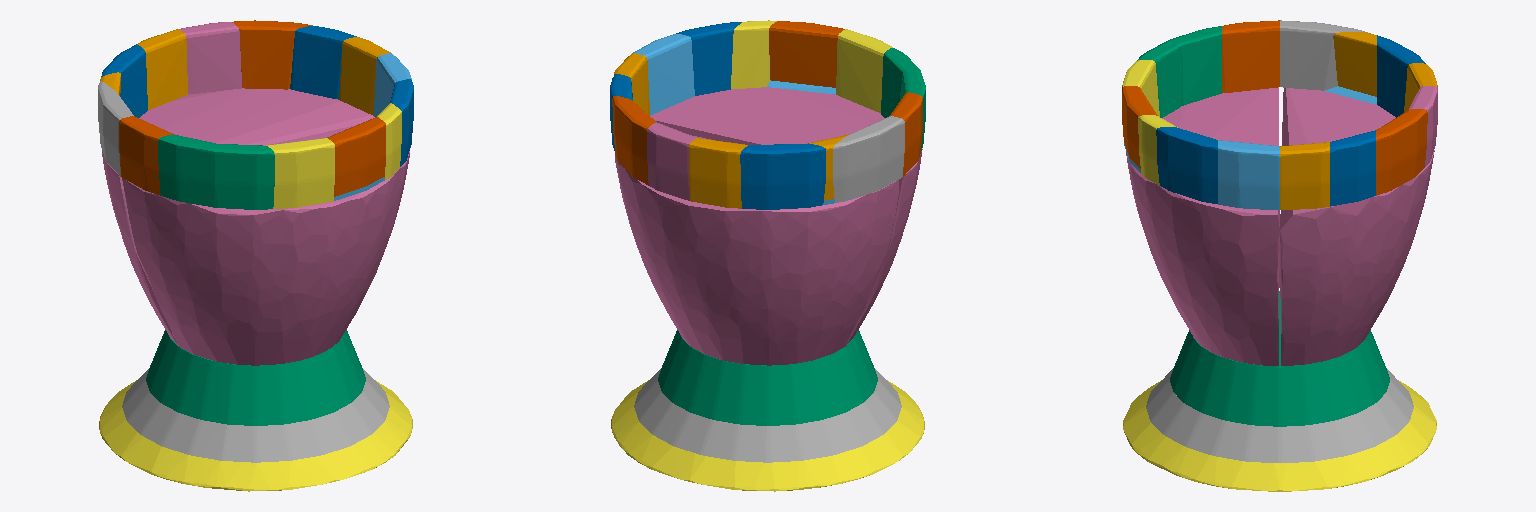
robot.urdf — root:
<robot name="root">
  <link name="link_convex_piece_018.obj">
    <inertial>
      <origin xyz="0 0 0" rpy="0 0 0"/>
    </inertial>
    <visual>
      <origin xyz="0 0 0" rpy="0 0 0"/>
      <geometry>
        <mesh filename="meshes/convex_piece_018.obj" scale="1.0 1.0 1.0"/>
      </geometry>
    </visual>
    <collision>
      <origin xyz="0 0 0" rpy="0 0 0"/>
      <geometry>
        <mesh filename="meshes/convex_piece_018.obj" scale="1.0 1.0 1.0"/>
      </geometry>
    </collision>
  </link>
  <link name="link_convex_piece_021.obj">
    <inertial>
      <origin xyz="0 0 0" rpy="0 0 0"/>
    </inertial>
    <visual>
      <origin xyz="0 0 0" rpy="0 0 0"/>
      <geometry>
        <mesh filename="meshes/convex_piece_021.obj" scale="1.0 1.0 1.0"/>
      </geometry>
    </visual>
    <collision>
      <origin xyz="0 0 0" rpy="0 0 0"/>
      <geometry>
        <mesh filename="meshes/convex_piece_021.obj" scale="1.0 1.0 1.0"/>
      </geometry>
    </collision>
  </link>
  <joint name="link_convex_piece_021.obj_joint" type="fixed">
    <origin xyz="0 0 0" rpy="0 0 0"/>
    <parent link="link_convex_piece_018.obj"/>
    <child link="link_convex_piece_021.obj"/>
  </joint>
  <link name="link_convex_piece_012.obj">
    <inertial>
      <origin xyz="0 0 0" rpy="0 0 0"/>
    </inertial>
    <visual>
      <origin xyz="0 0 0" rpy="0 0 0"/>
      <geometry>
        <mesh filename="meshes/convex_piece_012.obj" scale="1.0 1.0 1.0"/>
      </geometry>
    </visual>
    <collision>
      <origin xyz="0 0 0" rpy="0 0 0"/>
      <geometry>
        <mesh filename="meshes/convex_piece_012.obj" scale="1.0 1.0 1.0"/>
      </geometry>
    </collision>
  </link>
  <joint name="link_convex_piece_012.obj_joint" type="fixed">
    <origin xyz="0 0 0" rpy="0 0 0"/>
    <parent link="link_convex_piece_021.obj"/>
    <child link="link_convex_piece_012.obj"/>
  </joint>
  <link name="link_convex_piece_019.obj">
    <inertial>
      <origin xyz="0 0 0" rpy="0 0 0"/>
    </inertial>
    <visual>
      <origin xyz="0 0 0" rpy="0 0 0"/>
      <geometry>
        <mesh filename="meshes/convex_piece_019.obj" scale="1.0 1.0 1.0"/>
      </geometry>
    </visual>
    <collision>
      <origin xyz="0 0 0" rpy="0 0 0"/>
      <geometry>
        <mesh filename="meshes/convex_piece_019.obj" scale="1.0 1.0 1.0"/>
      </geometry>
    </collision>
  </link>
  <joint name="link_convex_piece_019.obj_joint" type="fixed">
    <origin xyz="0 0 0" rpy="0 0 0"/>
    <parent link="link_convex_piece_012.obj"/>
    <child link="link_convex_piece_019.obj"/>
  </joint>
  <link name="link_convex_piece_014.obj">
    <inertial>
      <origin xyz="0 0 0" rpy="0 0 0"/>
    </inertial>
    <visual>
      <origin xyz="0 0 0" rpy="0 0 0"/>
      <geometry>
        <mesh filename="meshes/convex_piece_014.obj" scale="1.0 1.0 1.0"/>
      </geometry>
    </visual>
    <collision>
      <origin xyz="0 0 0" rpy="0 0 0"/>
      <geometry>
        <mesh filename="meshes/convex_piece_014.obj" scale="1.0 1.0 1.0"/>
      </geometry>
    </collision>
  </link>
  <joint name="link_convex_piece_014.obj_joint" type="fixed">
    <origin xyz="0 0 0" rpy="0 0 0"/>
    <parent link="link_convex_piece_019.obj"/>
    <child link="link_convex_piece_014.obj"/>
  </joint>
  <link name="link_convex_piece_020.obj">
    <inertial>
      <origin xyz="0 0 0" rpy="0 0 0"/>
    </inertial>
    <visual>
      <origin xyz="0 0 0" rpy="0 0 0"/>
      <geometry>
        <mesh filename="meshes/convex_piece_020.obj" scale="1.0 1.0 1.0"/>
      </geometry>
    </visual>
    <collision>
      <origin xyz="0 0 0" rpy="0 0 0"/>
      <geometry>
        <mesh filename="meshes/convex_piece_020.obj" scale="1.0 1.0 1.0"/>
      </geometry>
    </collision>
  </link>
  <joint name="link_convex_piece_020.obj_joint" type="fixed">
    <origin xyz="0 0 0" rpy="0 0 0"/>
    <parent link="link_convex_piece_014.obj"/>
    <child link="link_convex_piece_020.obj"/>
  </joint>
  <link name="link_convex_piece_004.obj">
    <inertial>
      <origin xyz="0 0 0" rpy="0 0 0"/>
    </inertial>
    <visual>
      <origin xyz="0 0 0" rpy="0 0 0"/>
      <geometry>
        <mesh filename="meshes/convex_piece_004.obj" scale="1.0 1.0 1.0"/>
      </geometry>
    </visual>
    <collision>
      <origin xyz="0 0 0" rpy="0 0 0"/>
      <geometry>
        <mesh filename="meshes/convex_piece_004.obj" scale="1.0 1.0 1.0"/>
      </geometry>
    </collision>
  </link>
  <joint name="link_convex_piece_004.obj_joint" type="fixed">
    <origin xyz="0 0 0" rpy="0 0 0"/>
    <parent link="link_convex_piece_020.obj"/>
    <child link="link_convex_piece_004.obj"/>
  </joint>
  <link name="link_convex_piece_001.obj">
    <inertial>
      <origin xyz="0 0 0" rpy="0 0 0"/>
    </inertial>
    <visual>
      <origin xyz="0 0 0" rpy="0 0 0"/>
      <geometry>
        <mesh filename="meshes/convex_piece_001.obj" scale="1.0 1.0 1.0"/>
      </geometry>
    </visual>
    <collision>
      <origin xyz="0 0 0" rpy="0 0 0"/>
      <geometry>
        <mesh filename="meshes/convex_piece_001.obj" scale="1.0 1.0 1.0"/>
      </geometry>
    </collision>
  </link>
  <joint name="link_convex_piece_001.obj_joint" type="fixed">
    <origin xyz="0 0 0" rpy="0 0 0"/>
    <parent link="link_convex_piece_004.obj"/>
    <child link="link_convex_piece_001.obj"/>
  </joint>
  <link name="link_convex_piece_015.obj">
    <inertial>
      <origin xyz="0 0 0" rpy="0 0 0"/>
    </inertial>
    <visual>
      <origin xyz="0 0 0" rpy="0 0 0"/>
      <geometry>
        <mesh filename="meshes/convex_piece_015.obj" scale="1.0 1.0 1.0"/>
      </geometry>
    </visual>
    <collision>
      <origin xyz="0 0 0" rpy="0 0 0"/>
      <geometry>
        <mesh filename="meshes/convex_piece_015.obj" scale="1.0 1.0 1.0"/>
      </geometry>
    </collision>
  </link>
  <joint name="link_convex_piece_015.obj_joint" type="fixed">
    <origin xyz="0 0 0" rpy="0 0 0"/>
    <parent link="link_convex_piece_001.obj"/>
    <child link="link_convex_piece_015.obj"/>
  </joint>
  <link name="link_convex_piece_005.obj">
    <inertial>
      <origin xyz="0 0 0" rpy="0 0 0"/>
    </inertial>
    <visual>
      <origin xyz="0 0 0" rpy="0 0 0"/>
      <geometry>
        <mesh filename="meshes/convex_piece_005.obj" scale="1.0 1.0 1.0"/>
      </geometry>
    </visual>
    <collision>
      <origin xyz="0 0 0" rpy="0 0 0"/>
      <geometry>
        <mesh filename="meshes/convex_piece_005.obj" scale="1.0 1.0 1.0"/>
      </geometry>
    </collision>
  </link>
  <joint name="link_convex_piece_005.obj_joint" type="fixed">
    <origin xyz="0 0 0" rpy="0 0 0"/>
    <parent link="link_convex_piece_015.obj"/>
    <child link="link_convex_piece_005.obj"/>
  </joint>
  <link name="link_convex_piece_013.obj">
    <inertial>
      <origin xyz="0 0 0" rpy="0 0 0"/>
    </inertial>
    <visual>
      <origin xyz="0 0 0" rpy="0 0 0"/>
      <geometry>
        <mesh filename="meshes/convex_piece_013.obj" scale="1.0 1.0 1.0"/>
      </geometry>
    </visual>
    <collision>
      <origin xyz="0 0 0" rpy="0 0 0"/>
      <geometry>
        <mesh filename="meshes/convex_piece_013.obj" scale="1.0 1.0 1.0"/>
      </geometry>
    </collision>
  </link>
  <joint name="link_convex_piece_013.obj_joint" type="fixed">
    <origin xyz="0 0 0" rpy="0 0 0"/>
    <parent link="link_convex_piece_005.obj"/>
    <child link="link_convex_piece_013.obj"/>
  </joint>
  <link name="link_convex_piece_002.obj">
    <inertial>
      <origin xyz="0 0 0" rpy="0 0 0"/>
    </inertial>
    <visual>
      <origin xyz="0 0 0" rpy="0 0 0"/>
      <geometry>
        <mesh filename="meshes/convex_piece_002.obj" scale="1.0 1.0 1.0"/>
      </geometry>
    </visual>
    <collision>
      <origin xyz="0 0 0" rpy="0 0 0"/>
      <geometry>
        <mesh filename="meshes/convex_piece_002.obj" scale="1.0 1.0 1.0"/>
      </geometry>
    </collision>
  </link>
  <joint name="link_convex_piece_002.obj_joint" type="fixed">
    <origin xyz="0 0 0" rpy="0 0 0"/>
    <parent link="link_convex_piece_013.obj"/>
    <child link="link_convex_piece_002.obj"/>
  </joint>
  <link name="link_convex_piece_010.obj">
    <inertial>
      <origin xyz="0 0 0" rpy="0 0 0"/>
    </inertial>
    <visual>
      <origin xyz="0 0 0" rpy="0 0 0"/>
      <geometry>
        <mesh filename="meshes/convex_piece_010.obj" scale="1.0 1.0 1.0"/>
      </geometry>
    </visual>
    <collision>
      <origin xyz="0 0 0" rpy="0 0 0"/>
      <geometry>
        <mesh filename="meshes/convex_piece_010.obj" scale="1.0 1.0 1.0"/>
      </geometry>
    </collision>
  </link>
  <joint name="link_convex_piece_010.obj_joint" type="fixed">
    <origin xyz="0 0 0" rpy="0 0 0"/>
    <parent link="link_convex_piece_002.obj"/>
    <child link="link_convex_piece_010.obj"/>
  </joint>
  <link name="link_convex_piece_006.obj">
    <inertial>
      <origin xyz="0 0 0" rpy="0 0 0"/>
    </inertial>
    <visual>
      <origin xyz="0 0 0" rpy="0 0 0"/>
      <geometry>
        <mesh filename="meshes/convex_piece_006.obj" scale="1.0 1.0 1.0"/>
      </geometry>
    </visual>
    <collision>
      <origin xyz="0 0 0" rpy="0 0 0"/>
      <geometry>
        <mesh filename="meshes/convex_piece_006.obj" scale="1.0 1.0 1.0"/>
      </geometry>
    </collision>
  </link>
  <joint name="link_convex_piece_006.obj_joint" type="fixed">
    <origin xyz="0 0 0" rpy="0 0 0"/>
    <parent link="link_convex_piece_010.obj"/>
    <child link="link_convex_piece_006.obj"/>
  </joint>
  <link name="link_convex_piece_003.obj">
    <inertial>
      <origin xyz="0 0 0" rpy="0 0 0"/>
    </inertial>
    <visual>
      <origin xyz="0 0 0" rpy="0 0 0"/>
      <geometry>
        <mesh filename="meshes/convex_piece_003.obj" scale="1.0 1.0 1.0"/>
      </geometry>
    </visual>
    <collision>
      <origin xyz="0 0 0" rpy="0 0 0"/>
      <geometry>
        <mesh filename="meshes/convex_piece_003.obj" scale="1.0 1.0 1.0"/>
      </geometry>
    </collision>
  </link>
  <joint name="link_convex_piece_003.obj_joint" type="fixed">
    <origin xyz="0 0 0" rpy="0 0 0"/>
    <parent link="link_convex_piece_006.obj"/>
    <child link="link_convex_piece_003.obj"/>
  </joint>
  <link name="link_convex_piece_008.obj">
    <inertial>
      <origin xyz="0 0 0" rpy="0 0 0"/>
    </inertial>
    <visual>
      <origin xyz="0 0 0" rpy="0 0 0"/>
      <geometry>
        <mesh filename="meshes/convex_piece_008.obj" scale="1.0 1.0 1.0"/>
      </geometry>
    </visual>
    <collision>
      <origin xyz="0 0 0" rpy="0 0 0"/>
      <geometry>
        <mesh filename="meshes/convex_piece_008.obj" scale="1.0 1.0 1.0"/>
      </geometry>
    </collision>
  </link>
  <joint name="link_convex_piece_008.obj_joint" type="fixed">
    <origin xyz="0 0 0" rpy="0 0 0"/>
    <parent link="link_convex_piece_003.obj"/>
    <child link="link_convex_piece_008.obj"/>
  </joint>
  <link name="link_convex_piece_022.obj">
    <inertial>
      <origin xyz="0 0 0" rpy="0 0 0"/>
    </inertial>
    <visual>
      <origin xyz="0 0 0" rpy="0 0 0"/>
      <geometry>
        <mesh filename="meshes/convex_piece_022.obj" scale="1.0 1.0 1.0"/>
      </geometry>
    </visual>
    <collision>
      <origin xyz="0 0 0" rpy="0 0 0"/>
      <geometry>
        <mesh filename="meshes/convex_piece_022.obj" scale="1.0 1.0 1.0"/>
      </geometry>
    </collision>
  </link>
  <joint name="link_convex_piece_022.obj_joint" type="fixed">
    <origin xyz="0 0 0" rpy="0 0 0"/>
    <parent link="link_convex_piece_008.obj"/>
    <child link="link_convex_piece_022.obj"/>
  </joint>
  <link name="link_convex_piece_011.obj">
    <inertial>
      <origin xyz="0 0 0" rpy="0 0 0"/>
    </inertial>
    <visual>
      <origin xyz="0 0 0" rpy="0 0 0"/>
      <geometry>
        <mesh filename="meshes/convex_piece_011.obj" scale="1.0 1.0 1.0"/>
      </geometry>
    </visual>
    <collision>
      <origin xyz="0 0 0" rpy="0 0 0"/>
      <geometry>
        <mesh filename="meshes/convex_piece_011.obj" scale="1.0 1.0 1.0"/>
      </geometry>
    </collision>
  </link>
  <joint name="link_convex_piece_011.obj_joint" type="fixed">
    <origin xyz="0 0 0" rpy="0 0 0"/>
    <parent link="link_convex_piece_022.obj"/>
    <child link="link_convex_piece_011.obj"/>
  </joint>
  <link name="link_convex_piece_000.obj">
    <inertial>
      <origin xyz="0 0 0" rpy="0 0 0"/>
    </inertial>
    <visual>
      <origin xyz="0 0 0" rpy="0 0 0"/>
      <geometry>
        <mesh filename="meshes/convex_piece_000.obj" scale="1.0 1.0 1.0"/>
      </geometry>
    </visual>
    <collision>
      <origin xyz="0 0 0" rpy="0 0 0"/>
      <geometry>
        <mesh filename="meshes/convex_piece_000.obj" scale="1.0 1.0 1.0"/>
      </geometry>
    </collision>
  </link>
  <joint name="link_convex_piece_000.obj_joint" type="fixed">
    <origin xyz="0 0 0" rpy="0 0 0"/>
    <parent link="link_convex_piece_011.obj"/>
    <child link="link_convex_piece_000.obj"/>
  </joint>
  <link name="link_convex_piece_016.obj">
    <inertial>
      <origin xyz="0 0 0" rpy="0 0 0"/>
    </inertial>
    <visual>
      <origin xyz="0 0 0" rpy="0 0 0"/>
      <geometry>
        <mesh filename="meshes/convex_piece_016.obj" scale="1.0 1.0 1.0"/>
      </geometry>
    </visual>
    <collision>
      <origin xyz="0 0 0" rpy="0 0 0"/>
      <geometry>
        <mesh filename="meshes/convex_piece_016.obj" scale="1.0 1.0 1.0"/>
      </geometry>
    </collision>
  </link>
  <joint name="link_convex_piece_016.obj_joint" type="fixed">
    <origin xyz="0 0 0" rpy="0 0 0"/>
    <parent link="link_convex_piece_000.obj"/>
    <child link="link_convex_piece_016.obj"/>
  </joint>
  <link name="link_convex_piece_009.obj">
    <inertial>
      <origin xyz="0 0 0" rpy="0 0 0"/>
    </inertial>
    <visual>
      <origin xyz="0 0 0" rpy="0 0 0"/>
      <geometry>
        <mesh filename="meshes/convex_piece_009.obj" scale="1.0 1.0 1.0"/>
      </geometry>
    </visual>
    <collision>
      <origin xyz="0 0 0" rpy="0 0 0"/>
      <geometry>
        <mesh filename="meshes/convex_piece_009.obj" scale="1.0 1.0 1.0"/>
      </geometry>
    </collision>
  </link>
  <joint name="link_convex_piece_009.obj_joint" type="fixed">
    <origin xyz="0 0 0" rpy="0 0 0"/>
    <parent link="link_convex_piece_016.obj"/>
    <child link="link_convex_piece_009.obj"/>
  </joint>
  <link name="link_convex_piece_007.obj">
    <inertial>
      <origin xyz="0 0 0" rpy="0 0 0"/>
    </inertial>
    <visual>
      <origin xyz="0 0 0" rpy="0 0 0"/>
      <geometry>
        <mesh filename="meshes/convex_piece_007.obj" scale="1.0 1.0 1.0"/>
      </geometry>
    </visual>
    <collision>
      <origin xyz="0 0 0" rpy="0 0 0"/>
      <geometry>
        <mesh filename="meshes/convex_piece_007.obj" scale="1.0 1.0 1.0"/>
      </geometry>
    </collision>
  </link>
  <joint name="link_convex_piece_007.obj_joint" type="fixed">
    <origin xyz="0 0 0" rpy="0 0 0"/>
    <parent link="link_convex_piece_009.obj"/>
    <child link="link_convex_piece_007.obj"/>
  </joint>
  <link name="link_convex_piece_017.obj">
    <inertial>
      <origin xyz="0 0 0" rpy="0 0 0"/>
    </inertial>
    <visual>
      <origin xyz="0 0 0" rpy="0 0 0"/>
      <geometry>
        <mesh filename="meshes/convex_piece_017.obj" scale="1.0 1.0 1.0"/>
      </geometry>
    </visual>
    <collision>
      <origin xyz="0 0 0" rpy="0 0 0"/>
      <geometry>
        <mesh filename="meshes/convex_piece_017.obj" scale="1.0 1.0 1.0"/>
      </geometry>
    </collision>
  </link>
  <joint name="link_convex_piece_017.obj_joint" type="fixed">
    <origin xyz="0 0 0" rpy="0 0 0"/>
    <parent link="link_convex_piece_007.obj"/>
    <child link="link_convex_piece_017.obj"/>
  </joint>
</robot>

--- What the picture shows (computed from the rendered views, not written in the file) ---
The picture shows the robot from 3 angles, left to right: view 1: azimuth 30°, elevation 25°; view 2: azimuth 150°, elevation 25°; view 3: azimuth 270°, elevation 25°; orthographic projection.
Model root with 23 links and 22 joints (22 fixed), rooted at link_convex_piece_018.obj, posed every joint at zero.
Links seen in each view (by area): view 1: link_convex_piece_003.obj, link_convex_piece_000.obj, link_convex_piece_004.obj, link_convex_piece_002.obj, link_convex_piece_001.obj, link_convex_piece_012.obj, link_convex_piece_019.obj, link_convex_piece_017.obj, link_convex_piece_020.obj, link_convex_piece_009.obj, link_convex_piece_006.obj, link_convex_piece_015.obj (+8 smaller); view 2: link_convex_piece_004.obj, link_convex_piece_000.obj, link_convex_piece_003.obj, link_convex_piece_002.obj, link_convex_piece_001.obj, link_convex_piece_014.obj, link_convex_piece_008.obj, link_convex_piece_006.obj, link_convex_piece_015.obj, link_convex_piece_019.obj, link_convex_piece_011.obj, link_convex_piece_017.obj (+9 smaller); view 3: link_convex_piece_003.obj, link_convex_piece_004.obj, link_convex_piece_000.obj, link_convex_piece_002.obj, link_convex_piece_001.obj, link_convex_piece_011.obj, link_convex_piece_007.obj, link_convex_piece_010.obj, link_convex_piece_008.obj, link_convex_piece_020.obj, link_convex_piece_018.obj, link_convex_piece_009.obj (+9 smaller).
Link boxes in pixels (x1,y1,x2,y2): link_convex_piece_003.obj: (122, 125, 409, 365); link_convex_piece_000.obj: (146, 329, 365, 425); link_convex_piece_004.obj: (102, 88, 374, 345); link_convex_piece_002.obj: (99, 380, 412, 491); link_convex_piece_001.obj: (122, 369, 389, 462); link_convex_piece_012.obj: (198, 144, 274, 209); link_convex_piece_019.obj: (266, 138, 334, 208); link_convex_piece_017.obj: (179, 22, 241, 94); link_convex_piece_020.obj: (232, 20, 312, 89); link_convex_piece_009.obj: (290, 26, 356, 99); link_convex_piece_006.obj: (327, 117, 385, 196); link_convex_piece_015.obj: (137, 29, 187, 109); link_convex_piece_004.obj: (615, 135, 898, 365); link_convex_piece_000.obj: (658, 330, 877, 425); link_convex_piece_003.obj: (650, 87, 922, 346); link_convex_piece_002.obj: (611, 380, 924, 491); link_convex_piece_001.obj: (634, 369, 901, 462); link_convex_piece_014.obj: (740, 143, 825, 209); link_convex_piece_008.obj: (833, 116, 904, 202); link_convex_piece_006.obj: (769, 21, 844, 87); link_convex_piece_015.obj: (689, 138, 747, 208); link_convex_piece_019.obj: (836, 29, 892, 112); link_convex_piece_011.obj: (633, 34, 694, 115); link_convex_piece_017.obj: (647, 122, 696, 200); link_convex_piece_003.obj: (1126, 87, 1279, 365); link_convex_piece_004.obj: (1280, 88, 1434, 365); link_convex_piece_000.obj: (1170, 291, 1389, 426); link_convex_piece_002.obj: (1123, 380, 1436, 491); link_convex_piece_001.obj: (1146, 369, 1413, 462); link_convex_piece_011.obj: (1218, 140, 1279, 209); link_convex_piece_007.obj: (1222, 20, 1279, 92); link_convex_piece_010.obj: (1156, 127, 1217, 203); link_convex_piece_008.obj: (1280, 20, 1367, 90); link_convex_piece_020.obj: (1376, 109, 1427, 195); link_convex_piece_018.obj: (1280, 142, 1329, 209); link_convex_piece_009.obj: (1330, 130, 1375, 206).
Bounding box of the posed robot: 1.09 × 1.09 × 1.3 m (x, y, z).
23 mesh visuals loaded from 23 distinct referenced files (23 OBJ).
